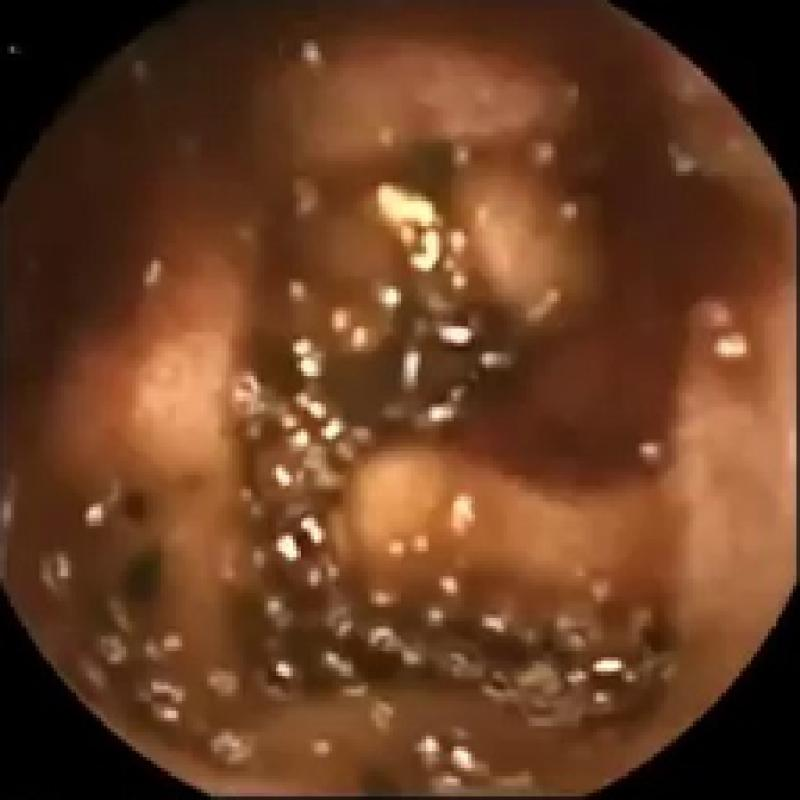bleeding: (452, 167, 718, 481), (564, 71, 604, 150)
